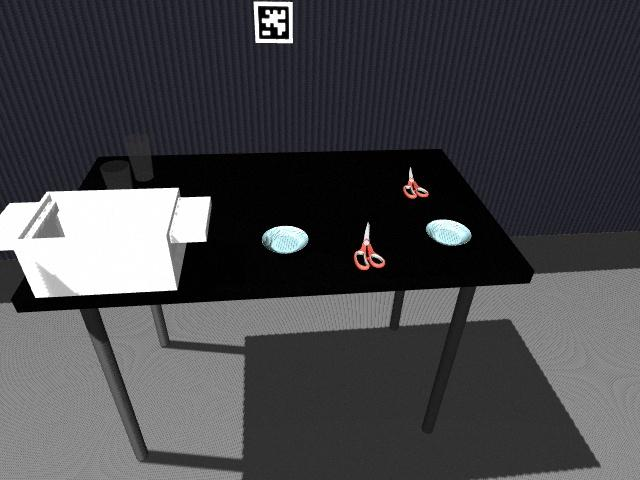cup: (123, 133, 154, 183), (100, 160, 131, 190)
plate: (260, 224, 311, 255), (425, 219, 472, 246)
scissors: (353, 220, 387, 271), (403, 165, 431, 200)
